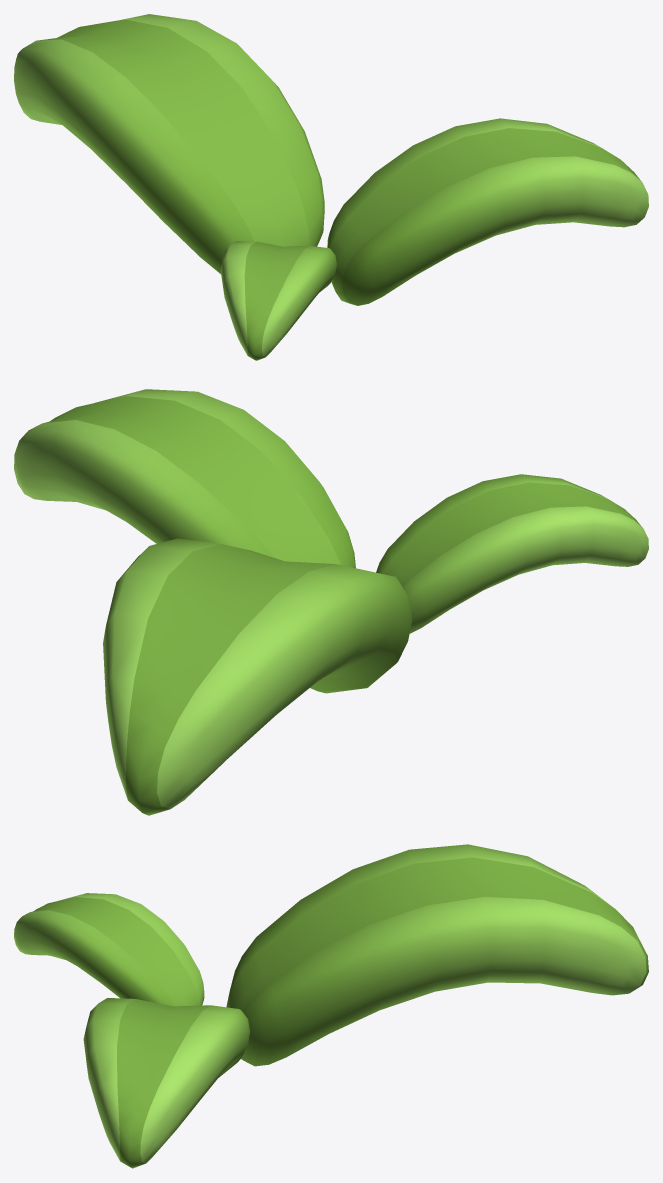
File: grass_1.fbx
3 views of the same model, one above another, from view 1: azimuth 30°, elevation 25°; view 2: azimuth 150°, elevation 25°; view 3: azimuth 270°, elevation 25° (orthographic). The views are drawn at different scales.
Parts seen in each view (by area): view 1: grass_1; view 2: grass_1; view 3: grass_1.
Boxes of the visible parts, x1,y1,x2,y2 form: grass_1: (14, 14, 648, 360); grass_1: (14, 389, 648, 815); grass_1: (14, 844, 648, 1168).
Size of the model in its own units: 76.51 by 28.23 by 93.77.
Materials: 1 (1 with a texture image).
